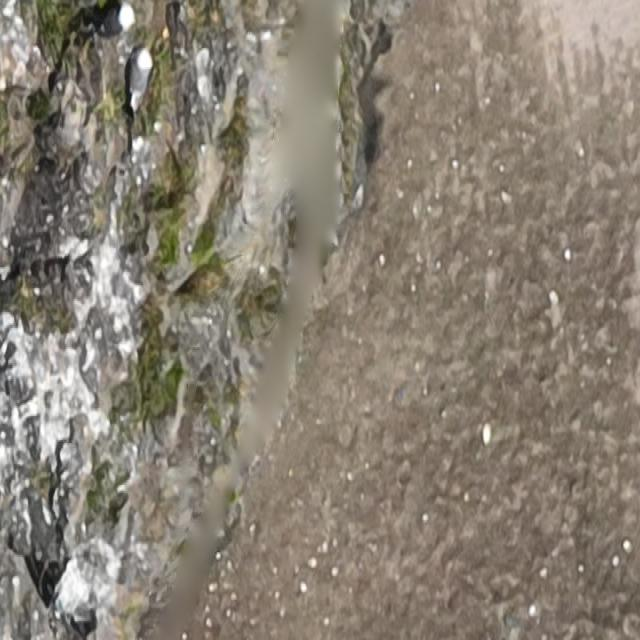umineko: (129, 45, 153, 117), (98, 8, 132, 35)
